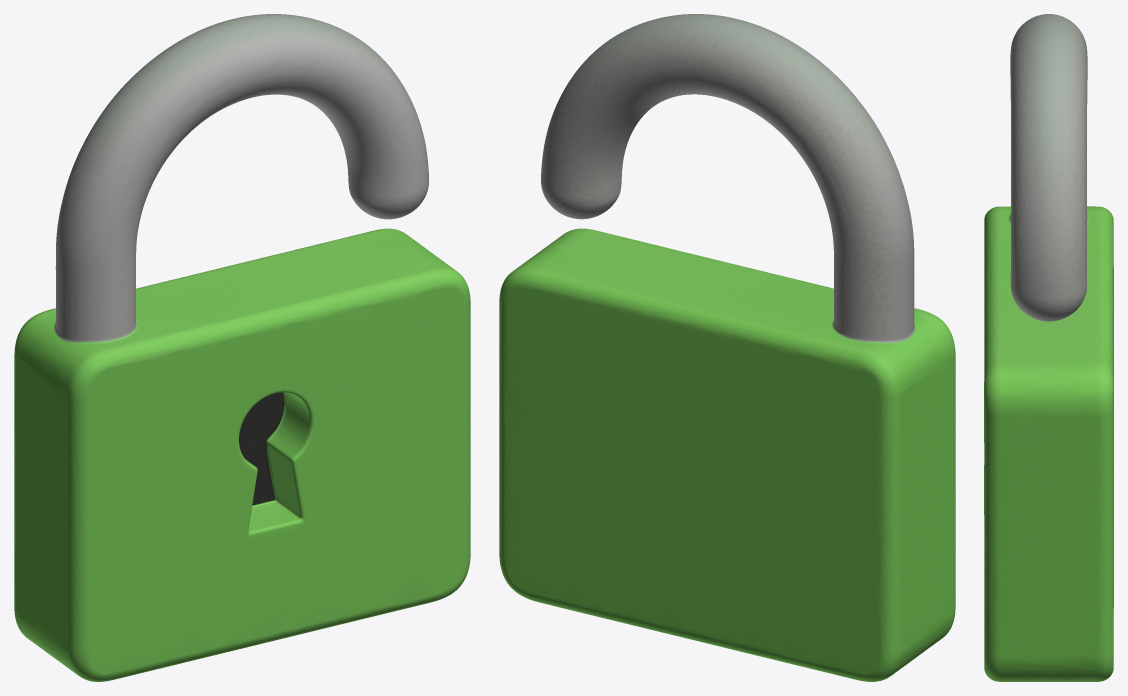
Rendered from unlock.glb.
3 views of the same model, side by side, from view 1: azimuth 30°, elevation 25°; view 2: azimuth 150°, elevation 25°; view 3: azimuth 270°, elevation 25° (orthographic). The views are drawn at different scales.
Size of the model in its own units: 1.33 by 1.9 by 0.3923.
1 material, 1 textured.
